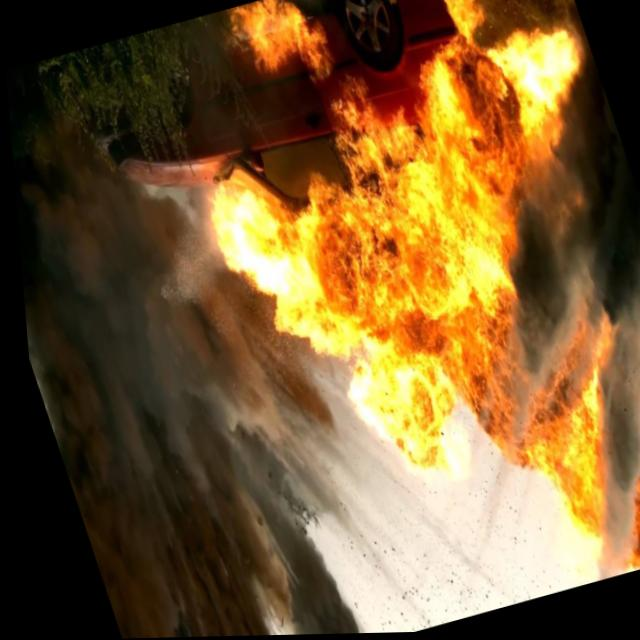Fire: (110, 0, 640, 599)
